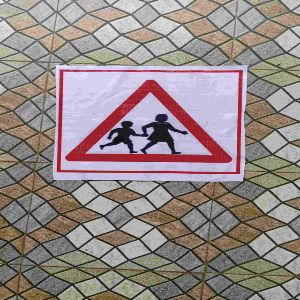schools: (63, 73, 238, 172)
